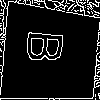B: (25, 29, 73, 67)
